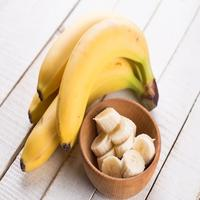banane: (17, 1, 187, 197)
